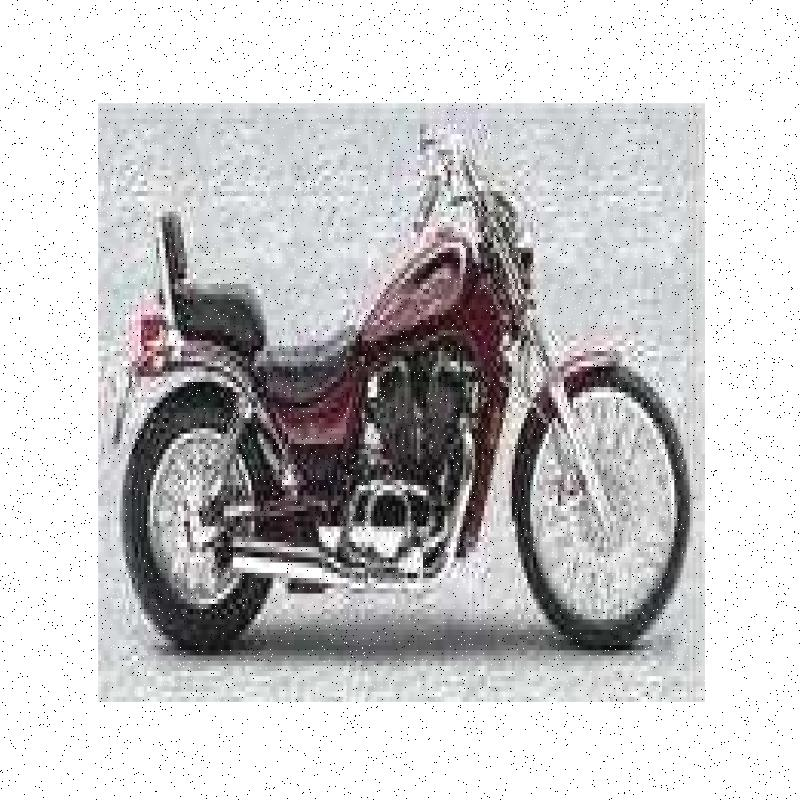bike: (98, 119, 690, 664)
